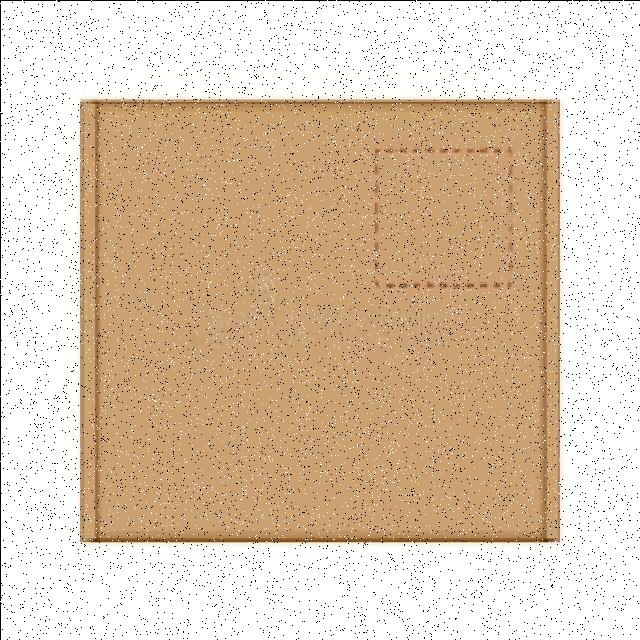normal: (77, 97, 566, 548)
